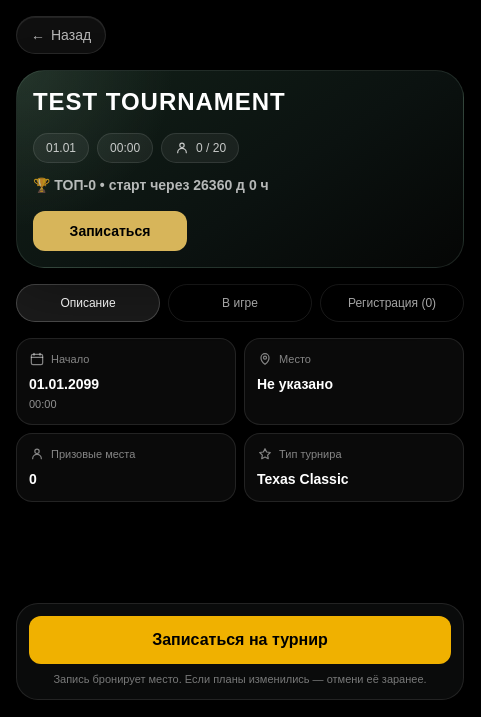
Scenario: restricted player › 'Записаться' => a successful waitlist result with the explanation -- never 'Ошибка записи'
The width and height of the screenshot is (481, 717).
Step 1. Click the button "Записаться на турнир" → click(240, 640), box [29,616,451,664]
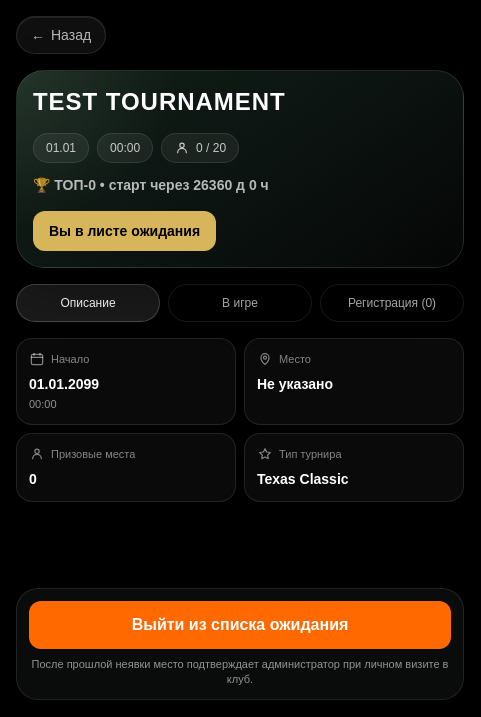
Step 2. Click the button "Регистрация (0)" → click(392, 303), box [320,284,464,322]
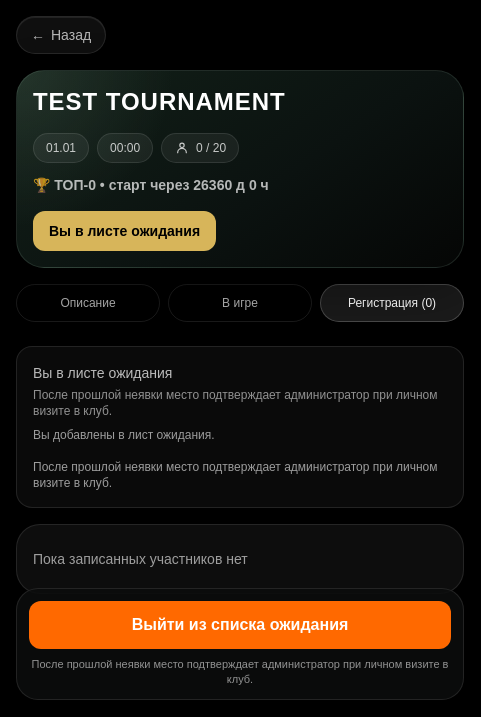
Result: the text "После прошлой неявки место подтверждает администратор при личном визите в клуб." is shown at [33,387,447,419]
Result: the text "Вы добавлены в лист ожидания." is shown at [33,428,438,490]
